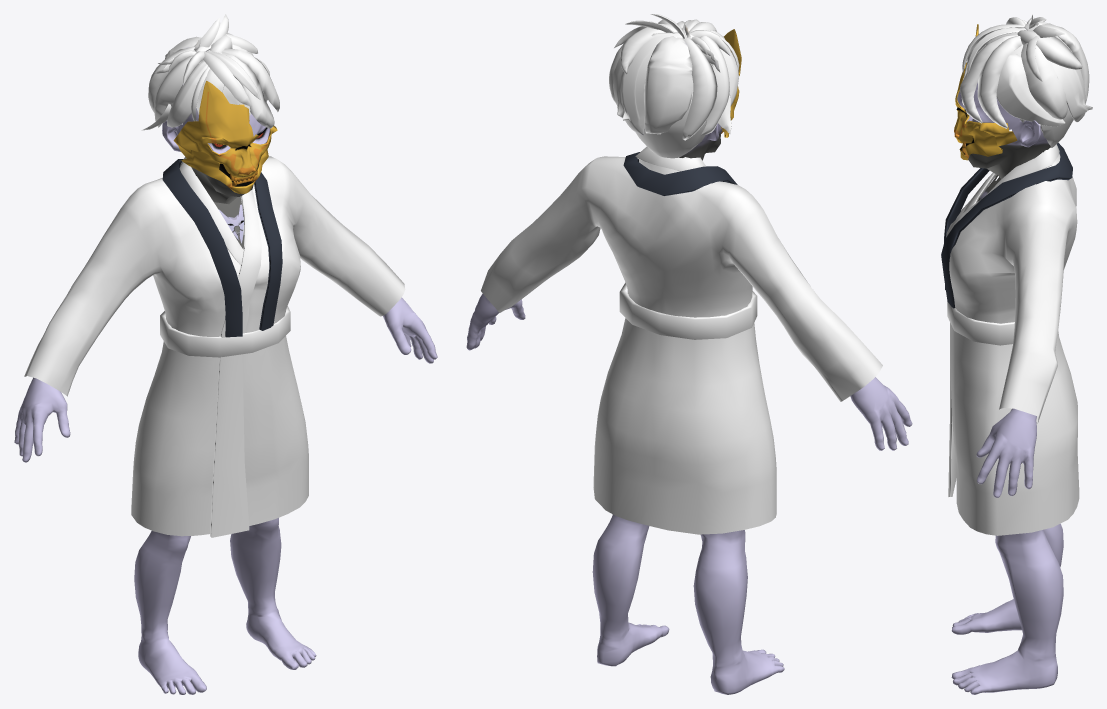
File: ON1FORCE.glb
The picture shows the model from 3 angles, left to right: view 1: azimuth 30°, elevation 25°; view 2: azimuth 150°, elevation 25°; view 3: azimuth 270°, elevation 25°; orthographic projection. The views are drawn at different scales.
Visible parts, largest first — view 1: pasted__polySurface4; view 2: pasted__polySurface4; view 3: pasted__polySurface4.
Boxes of the visible parts, x1,y1,x2,y2 form: pasted__polySurface4: [14, 14, 437, 694]; pasted__polySurface4: [466, 14, 912, 694]; pasted__polySurface4: [941, 15, 1092, 694].
Bounding box in the file's own units: 0.3313 × 0.4841 × 0.103.
Materials: 1 (1 with a texture image).
